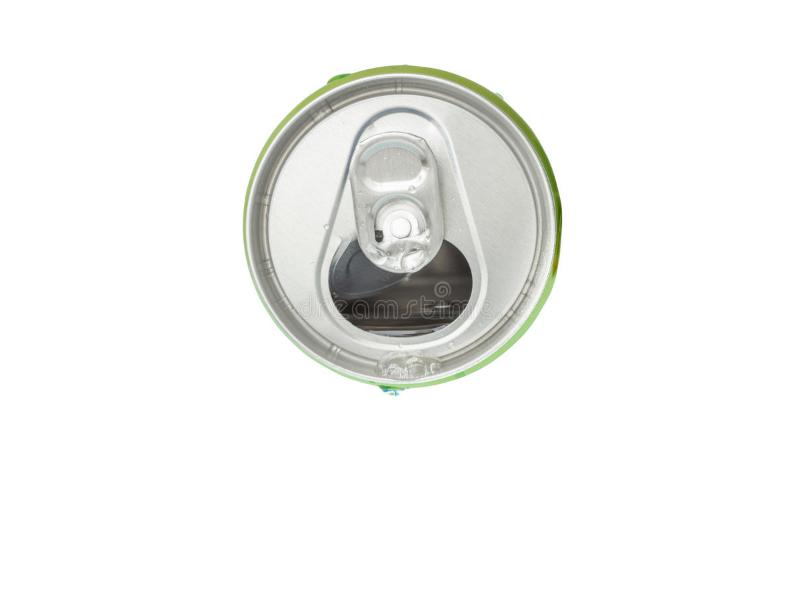can: (235, 63, 566, 395)
